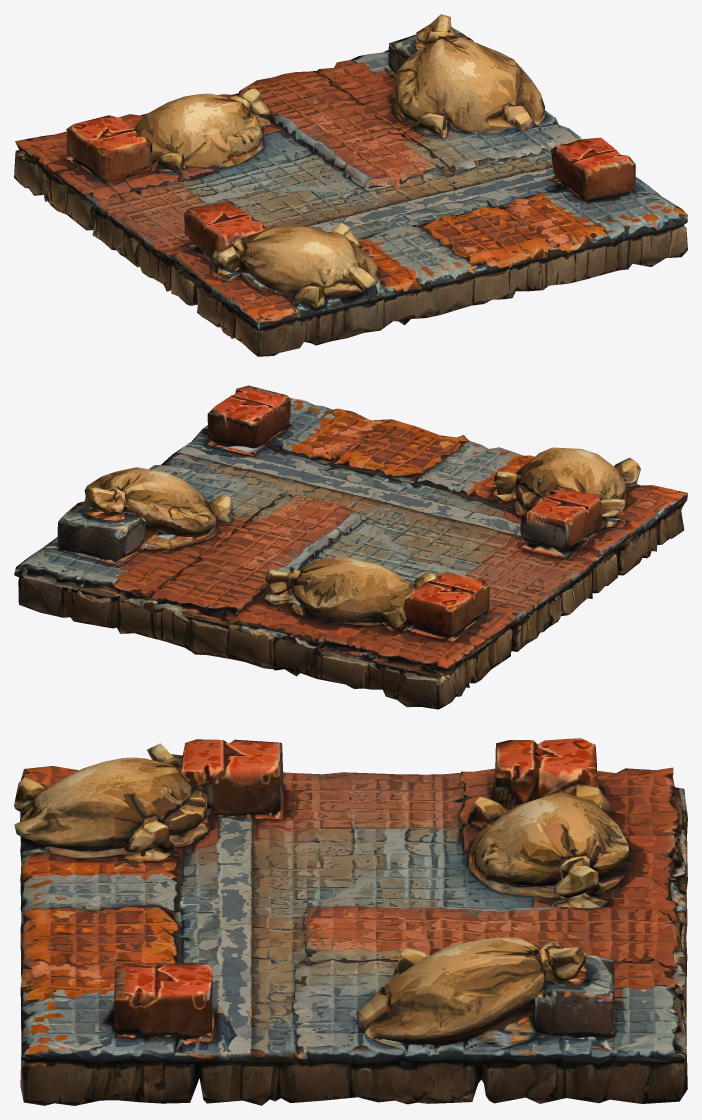
File: Settle_RoofPatch_Corrugated.fbx
3 views of the same model, one above another, from view 1: azimuth 30°, elevation 25°; view 2: azimuth 150°, elevation 25°; view 3: azimuth 270°, elevation 25° (orthographic). The views are drawn at different scales.
Parts seen in each view (by area): view 1: texture_mapping; view 2: texture_mapping; view 3: texture_mapping.
Boxes of the visible parts, left/top/right/bottom form: texture_mapping: left=14, top=14, right=687, bottom=356; texture_mapping: left=14, top=385, right=687, bottom=709; texture_mapping: left=14, top=738, right=687, bottom=1105.
Size of the model in its own units: 1 by 0.9987 by 0.2252.
1 material, 1 textured.
